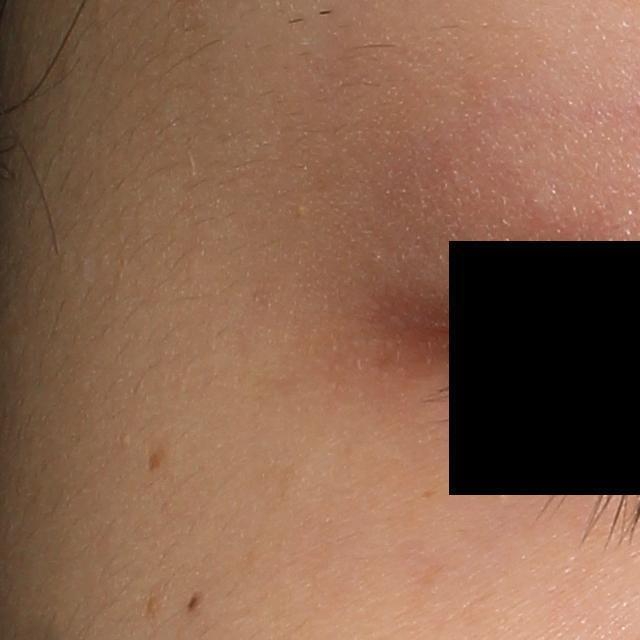melasma: (144, 444, 170, 475), (421, 487, 437, 498)
nevus: (187, 589, 206, 612)
